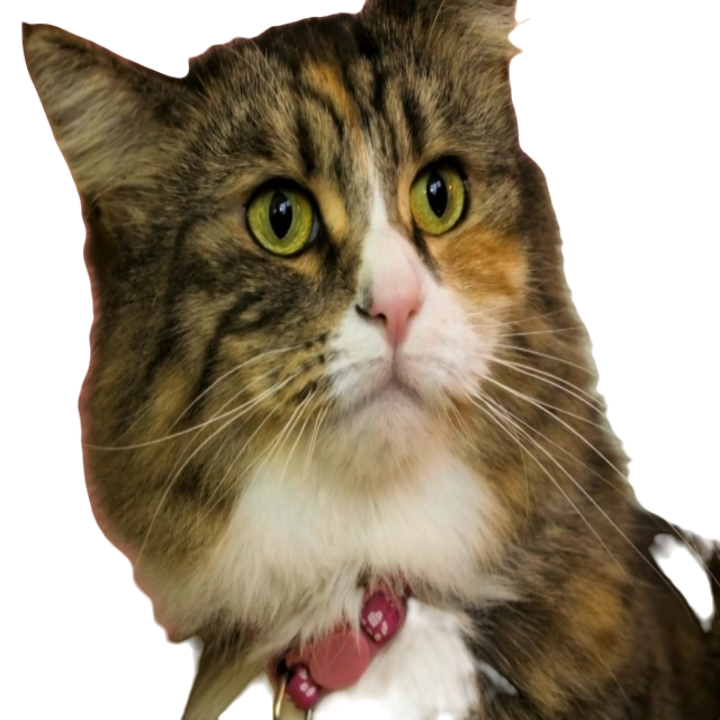Cat: (19, 11, 719, 719)
